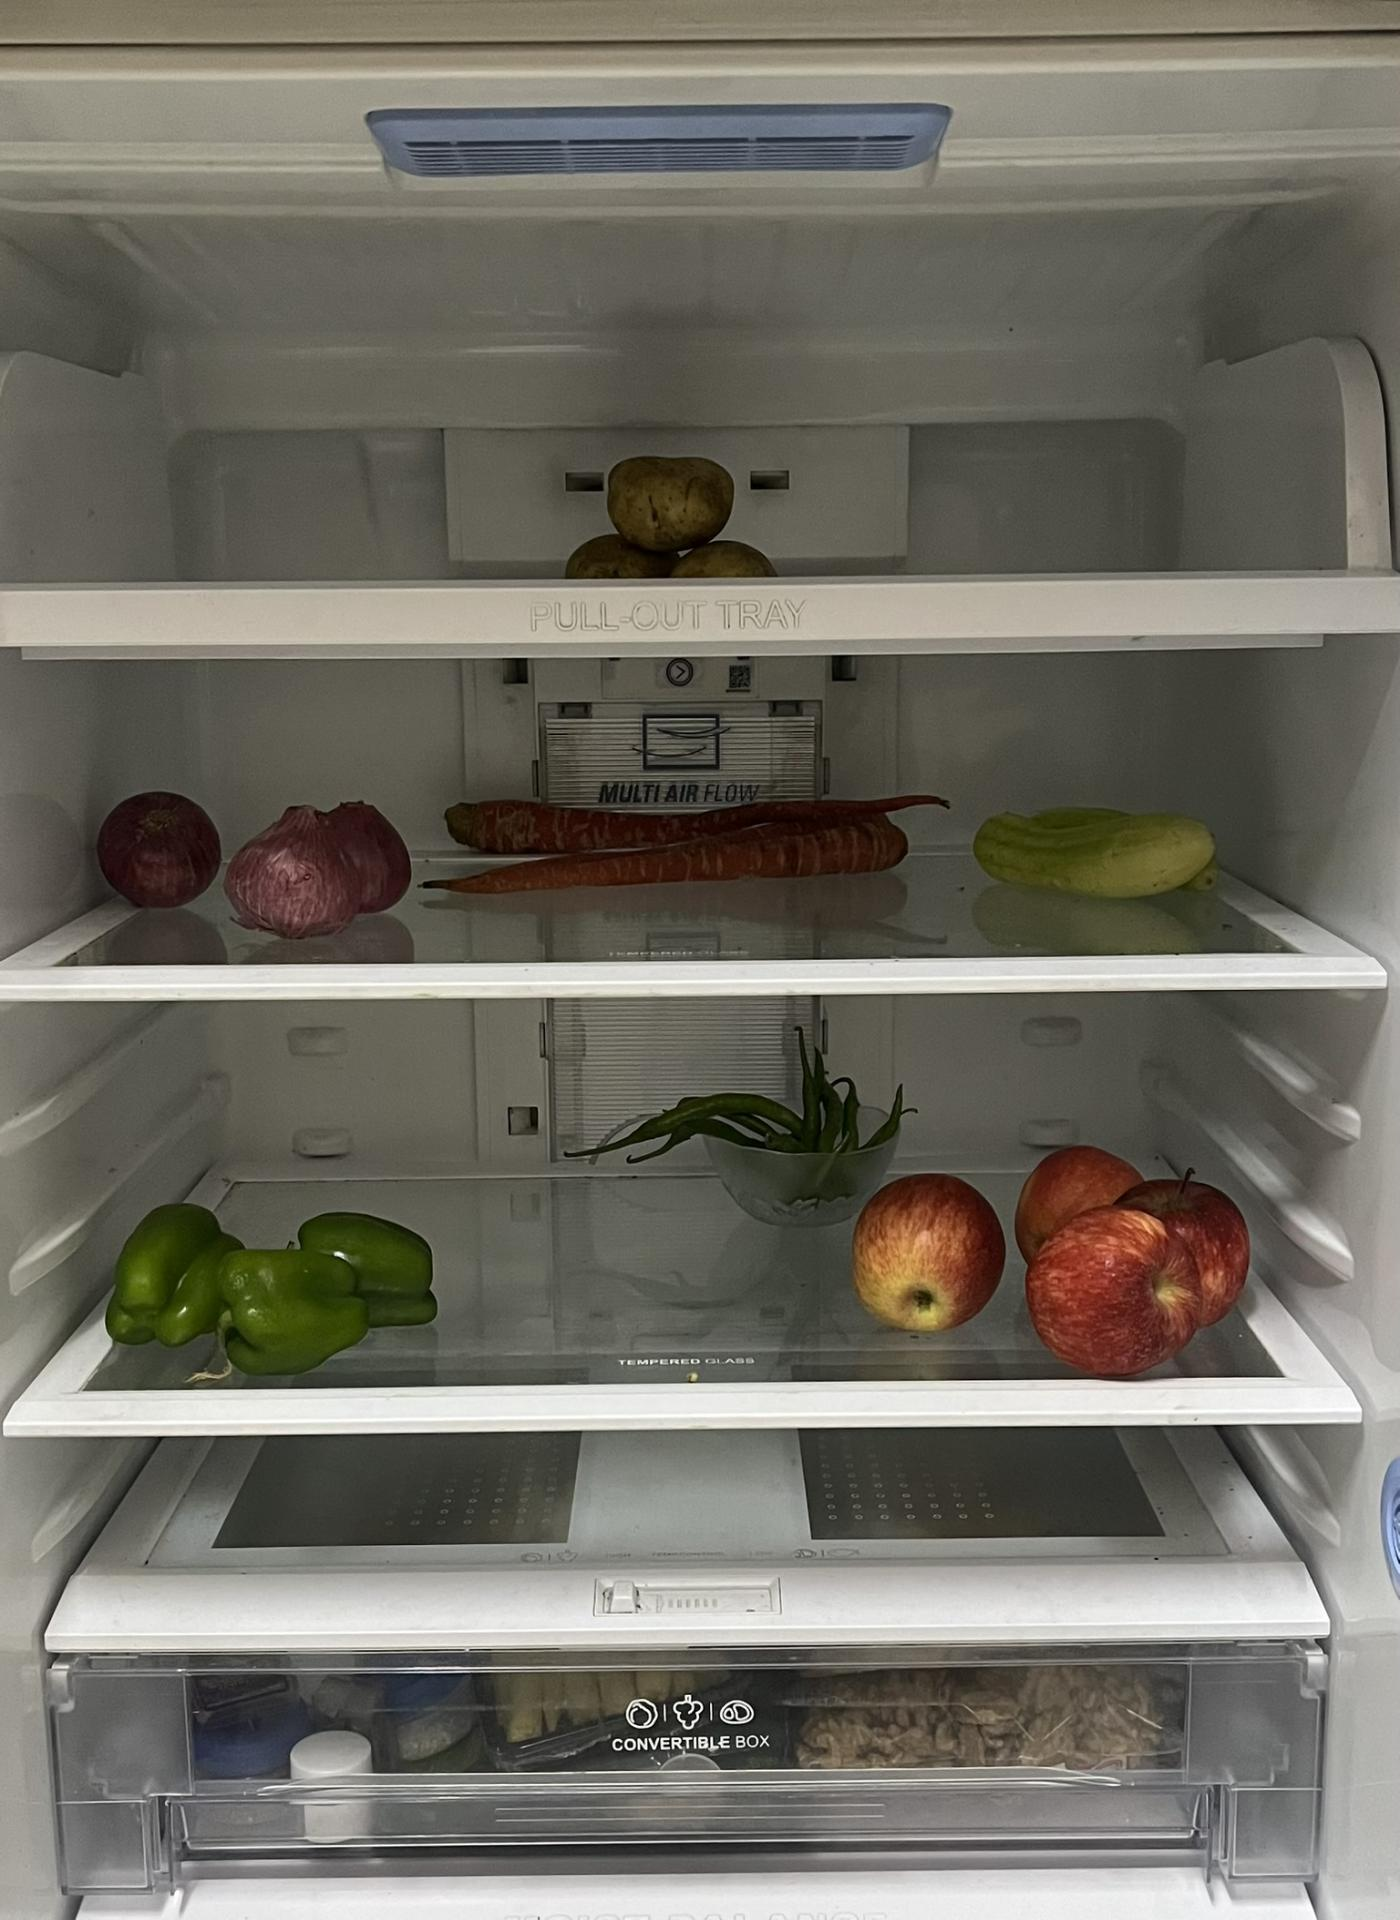apple: (1021, 1143, 1255, 1361), (847, 1170, 1006, 1336)
capsicum: (110, 1207, 444, 1374)
carrots: (446, 784, 926, 896)
chillies: (590, 1052, 902, 1187)
cucumber: (971, 805, 1223, 897)
onion: (95, 783, 417, 947)
potato: (564, 453, 775, 581)
